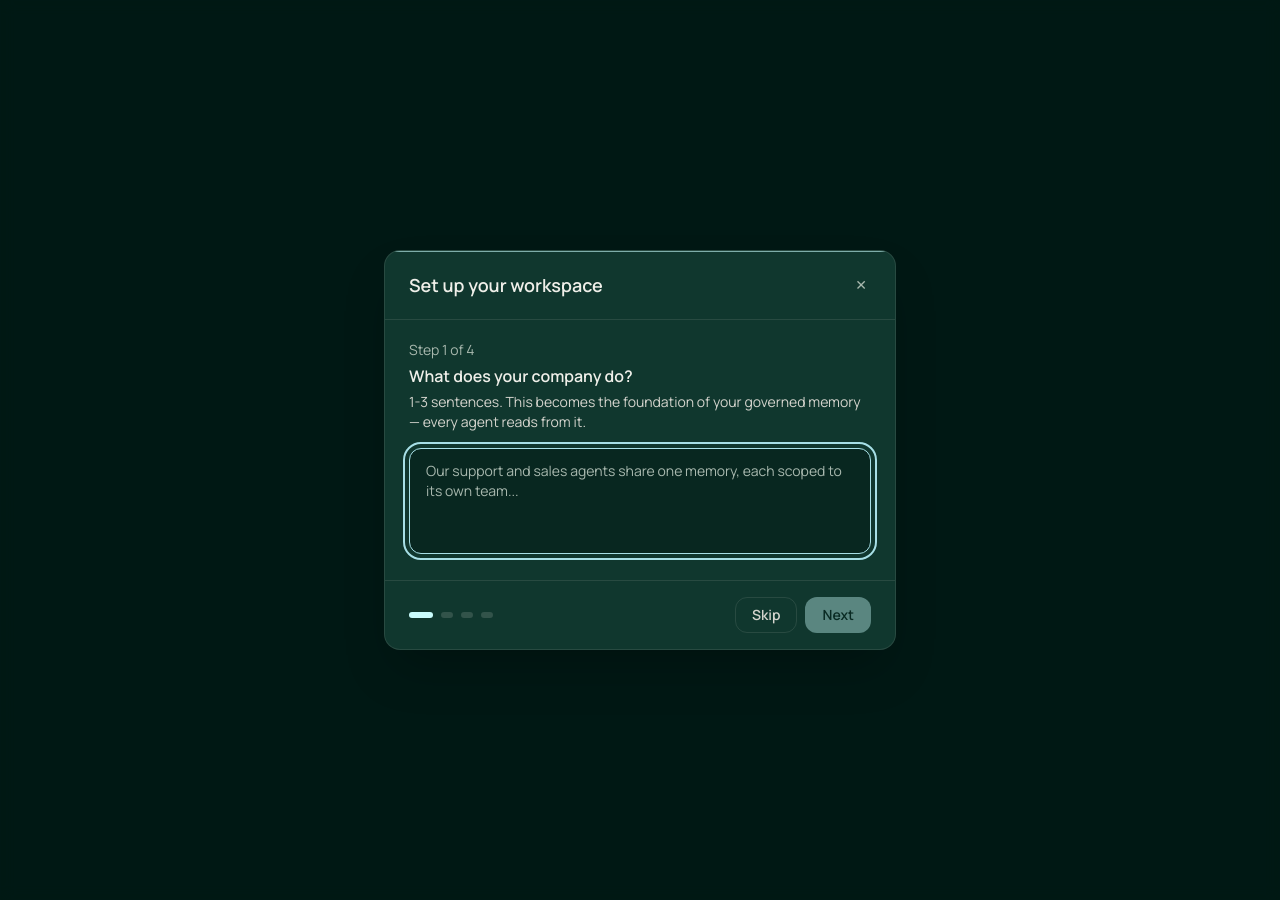
Test: signed-in pages do not name the team as the buyer › onboarding, on every step
Replace the text in the text box with "An answer" at (640, 501), box [409,448,871,554]
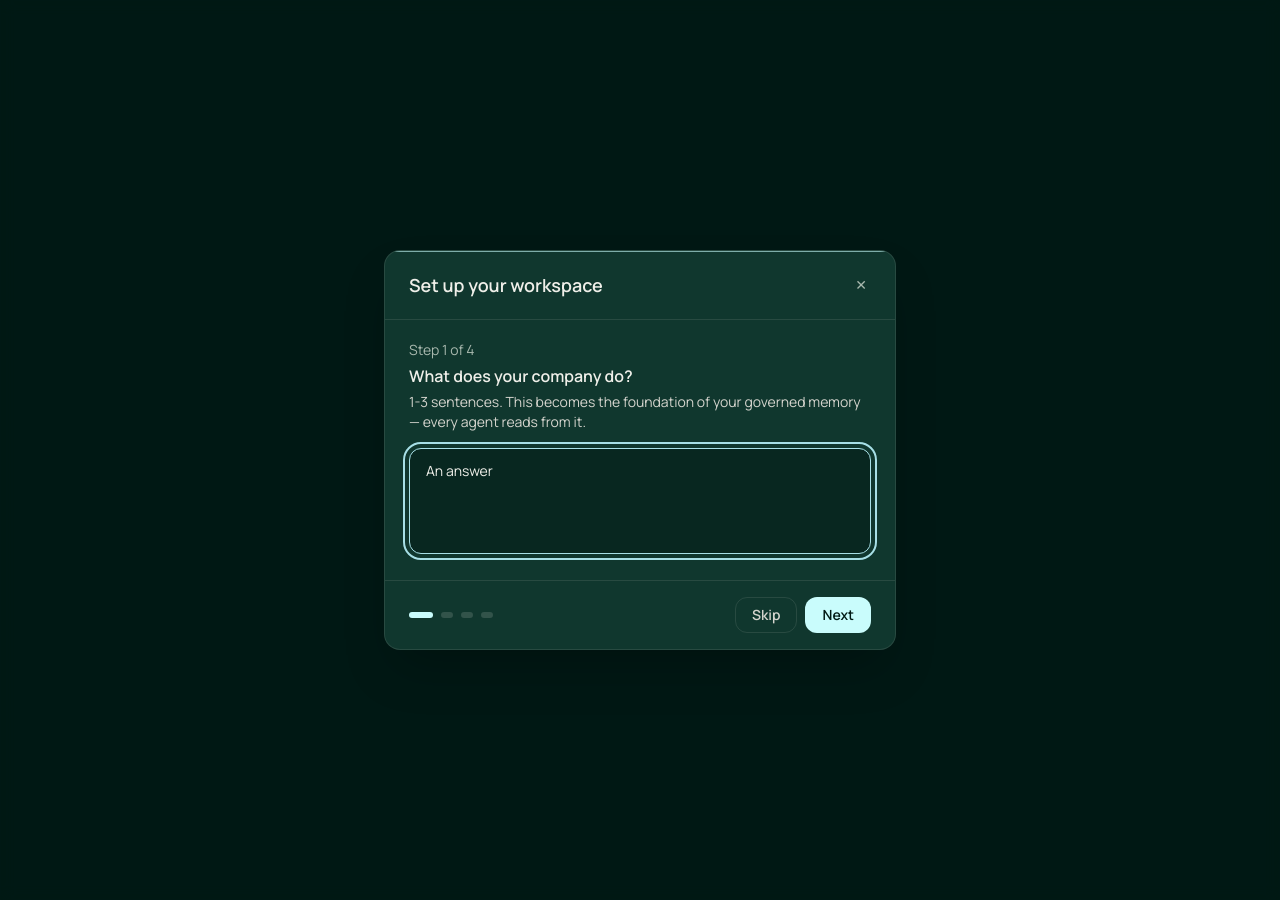
Click the button "Next" at (838, 615), box [806,597,871,633]
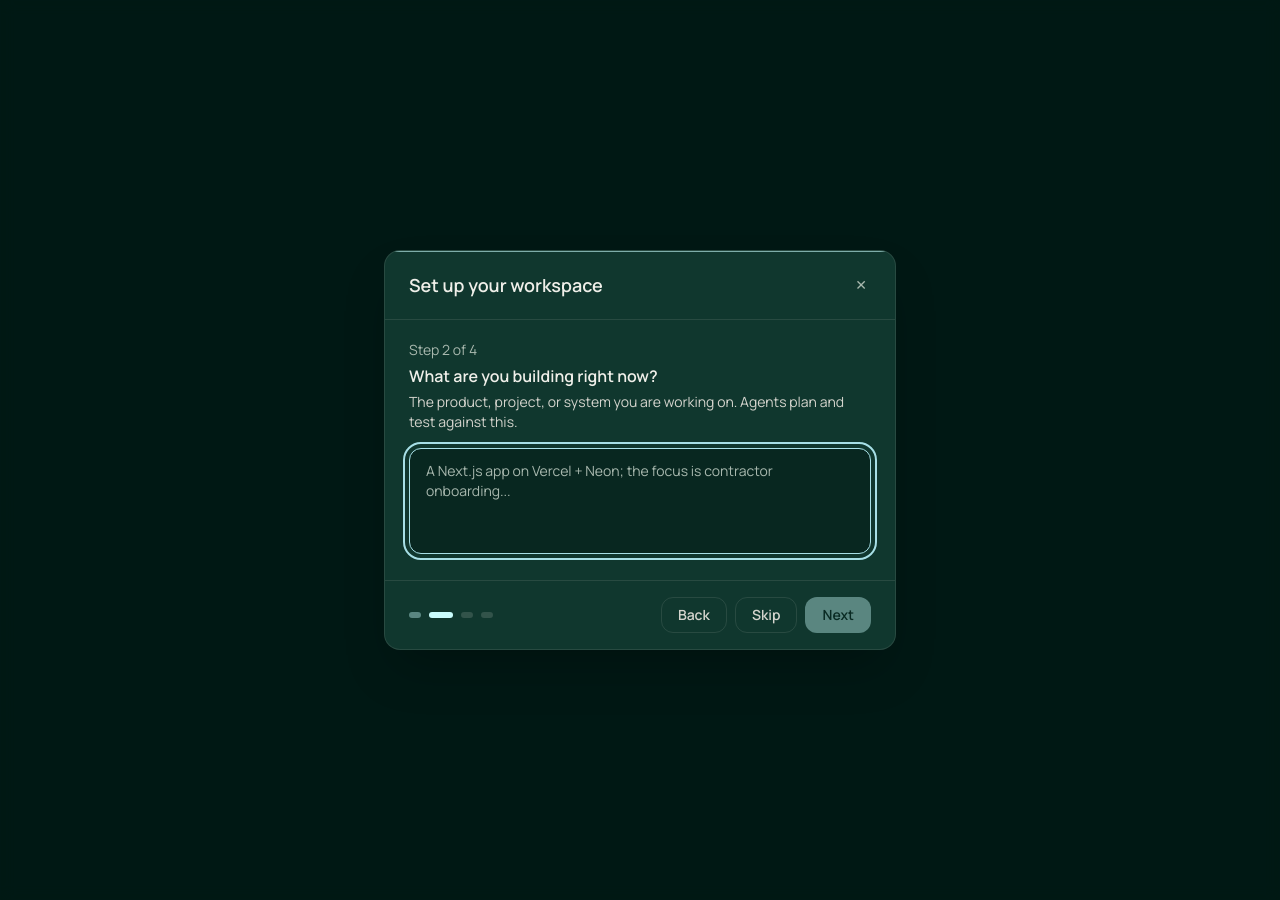
Replace the text in the text box with "An answer" at (640, 501), box [409,448,871,554]
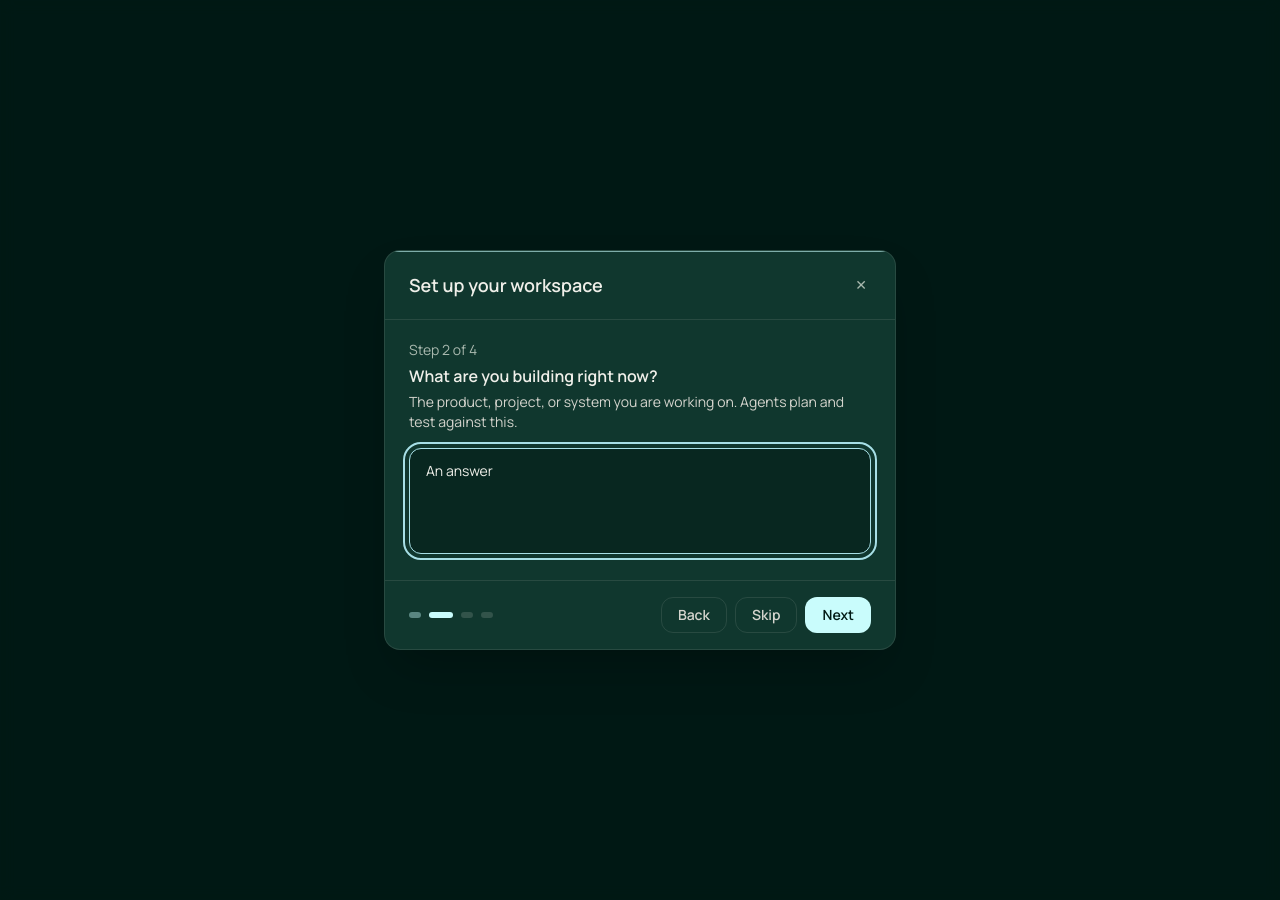
Click the button "Next" at (838, 615), box [806,597,871,633]
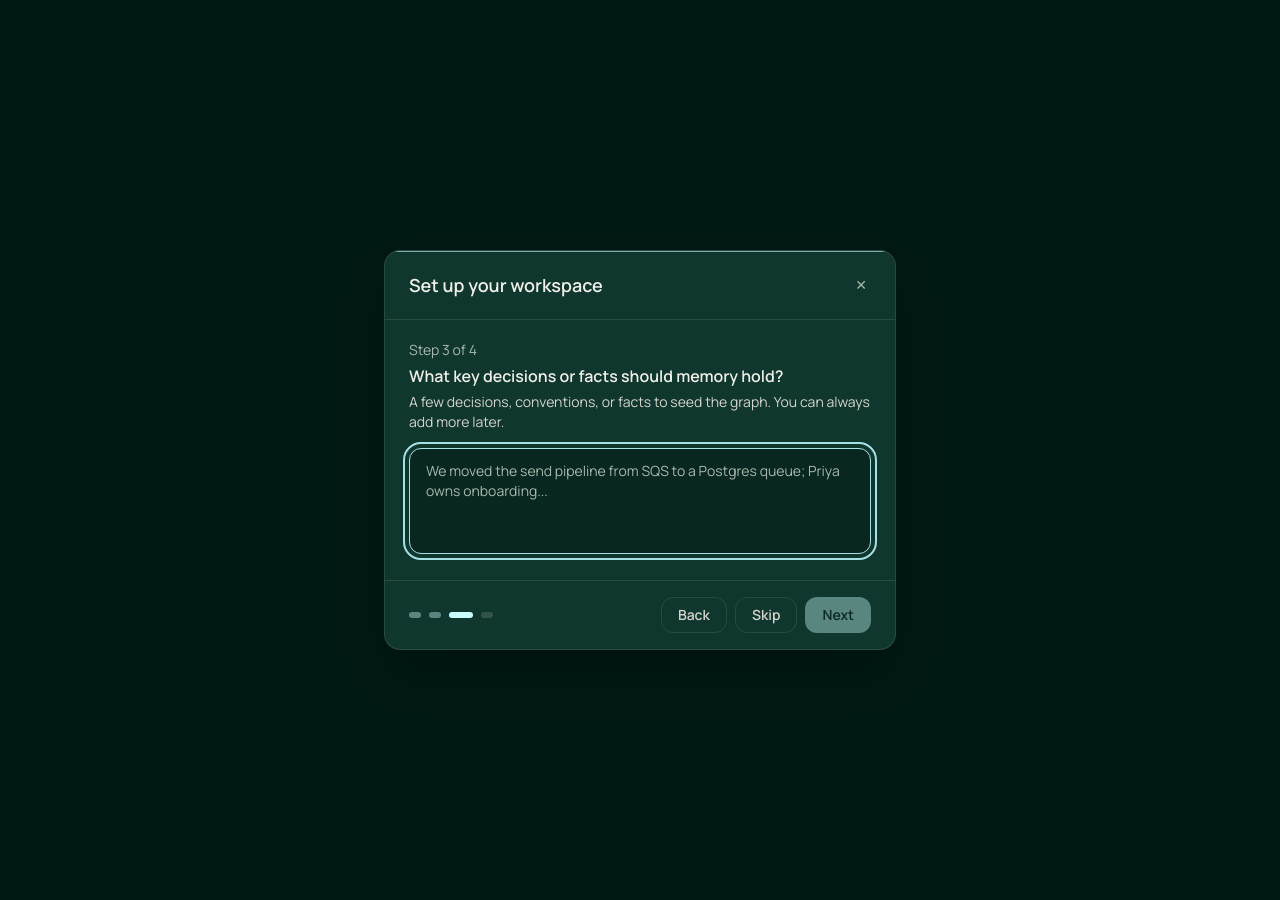
Replace the text in the text box with "An answer" at (640, 501), box [409,448,871,554]
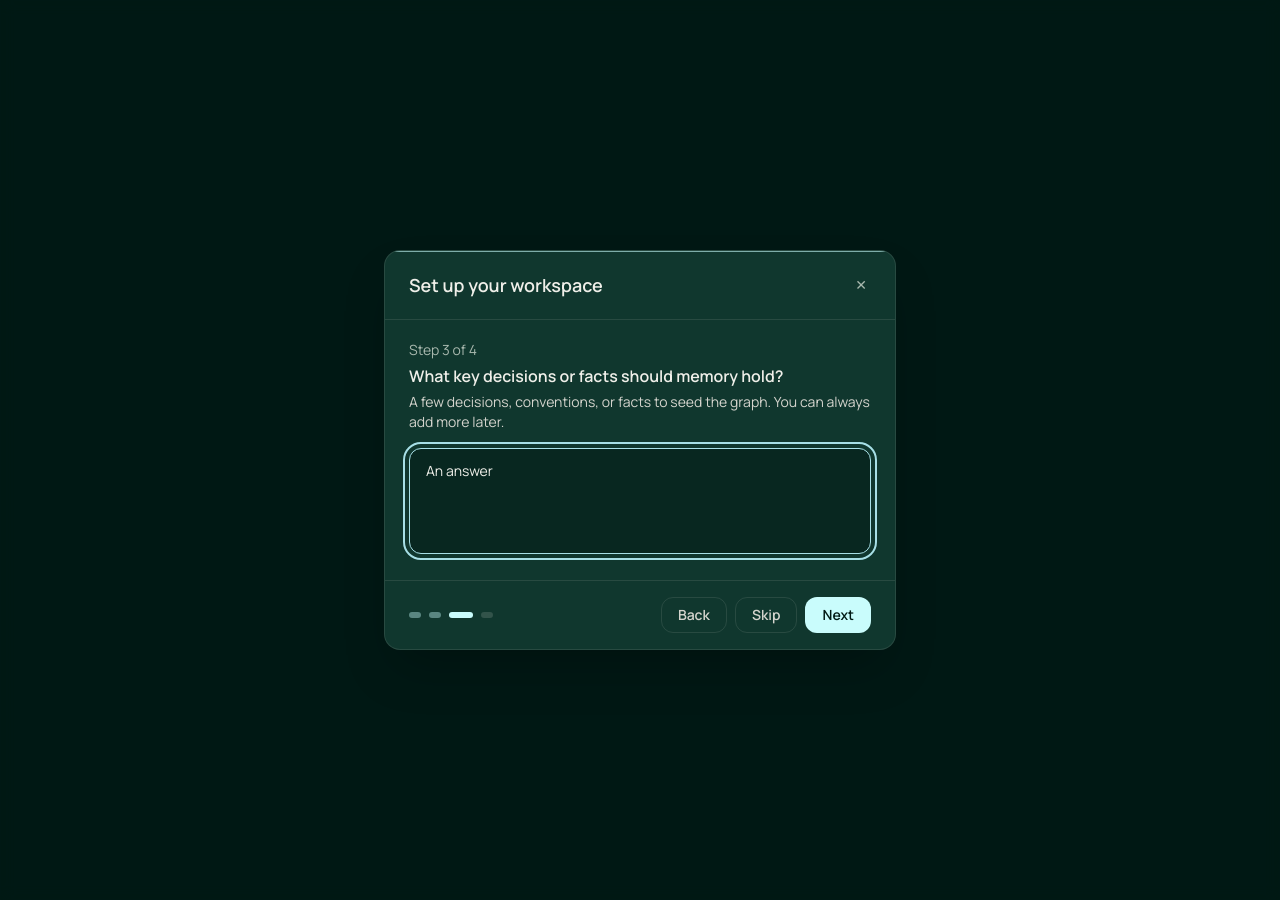
Click the button "Next" at (838, 615), box [806,597,871,633]
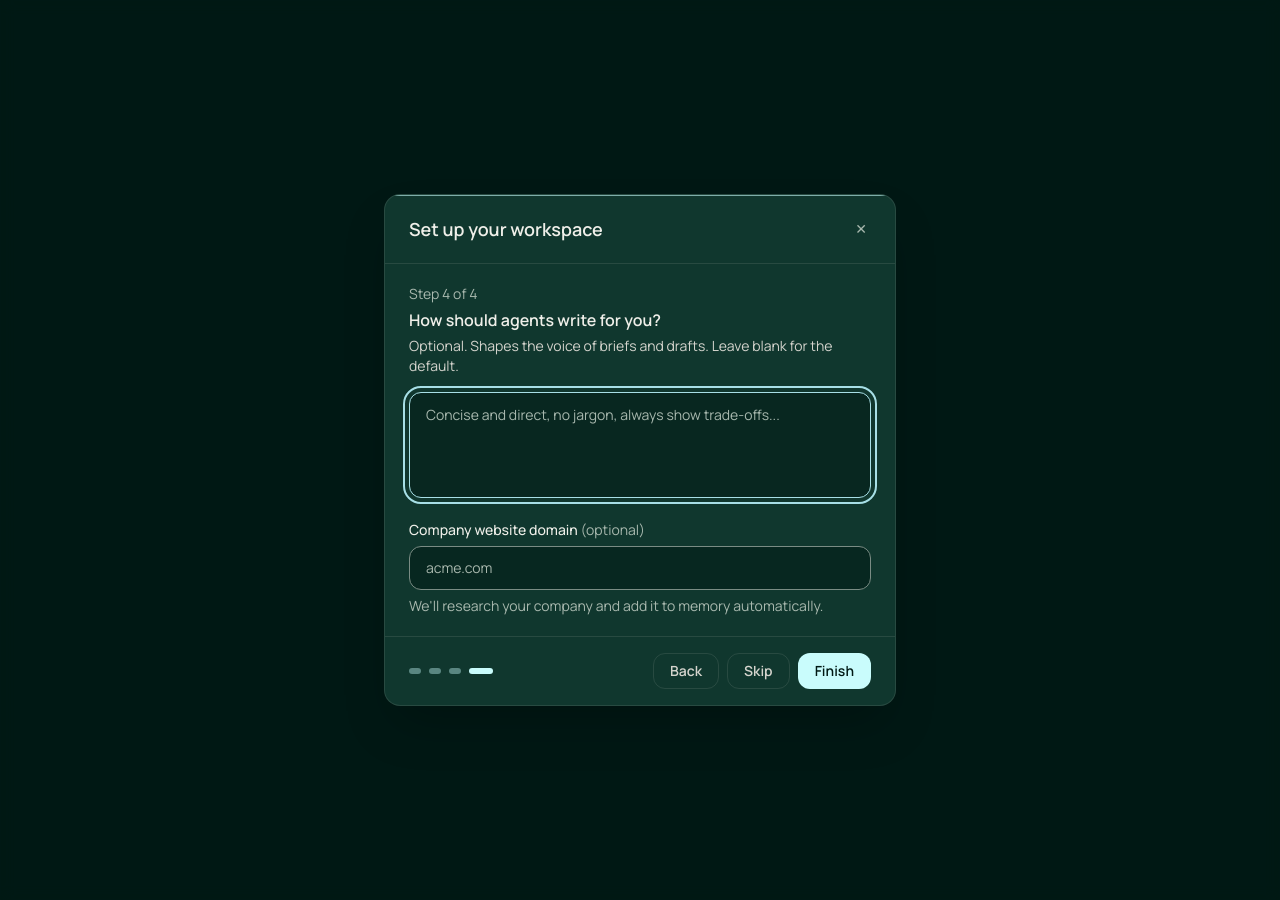
Now the button "Finish" is shown, box [798,653,871,689]
